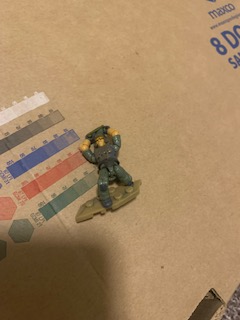soldier: (75, 125, 138, 214)
